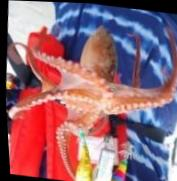Cephalopod: (6, 24, 177, 178)
